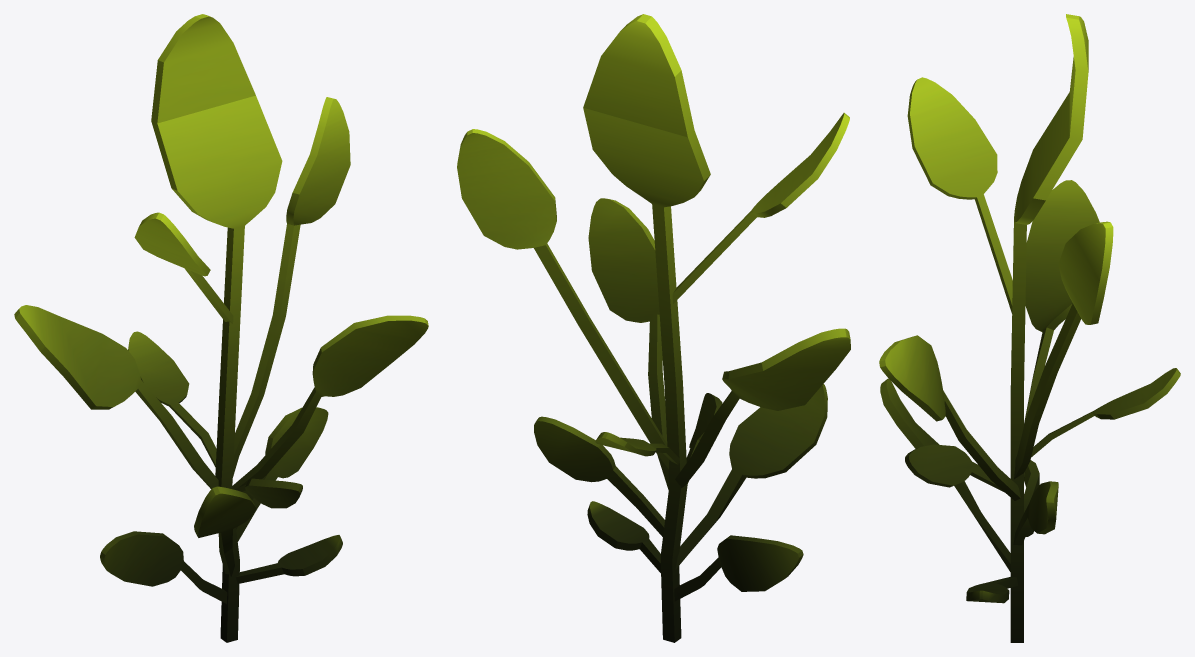
The model's file is PlantTypeA.fbx.
3 renders of one model, left to right at view 1: azimuth 30°, elevation 25°; view 2: azimuth 150°, elevation 25°; view 3: azimuth 270°, elevation 25°, orthographic. The views are drawn at different scales.
Parts seen in each view (by area): view 1: PlantTypeA; view 2: PlantTypeA; view 3: PlantTypeA.
Boxes of the visible parts, x1,y1,x2,y2 form: PlantTypeA: [14, 14, 428, 642]; PlantTypeA: [457, 14, 850, 642]; PlantTypeA: [879, 14, 1180, 642].
Size of the model in its own units: 47.77 by 78.8 by 34.49.
